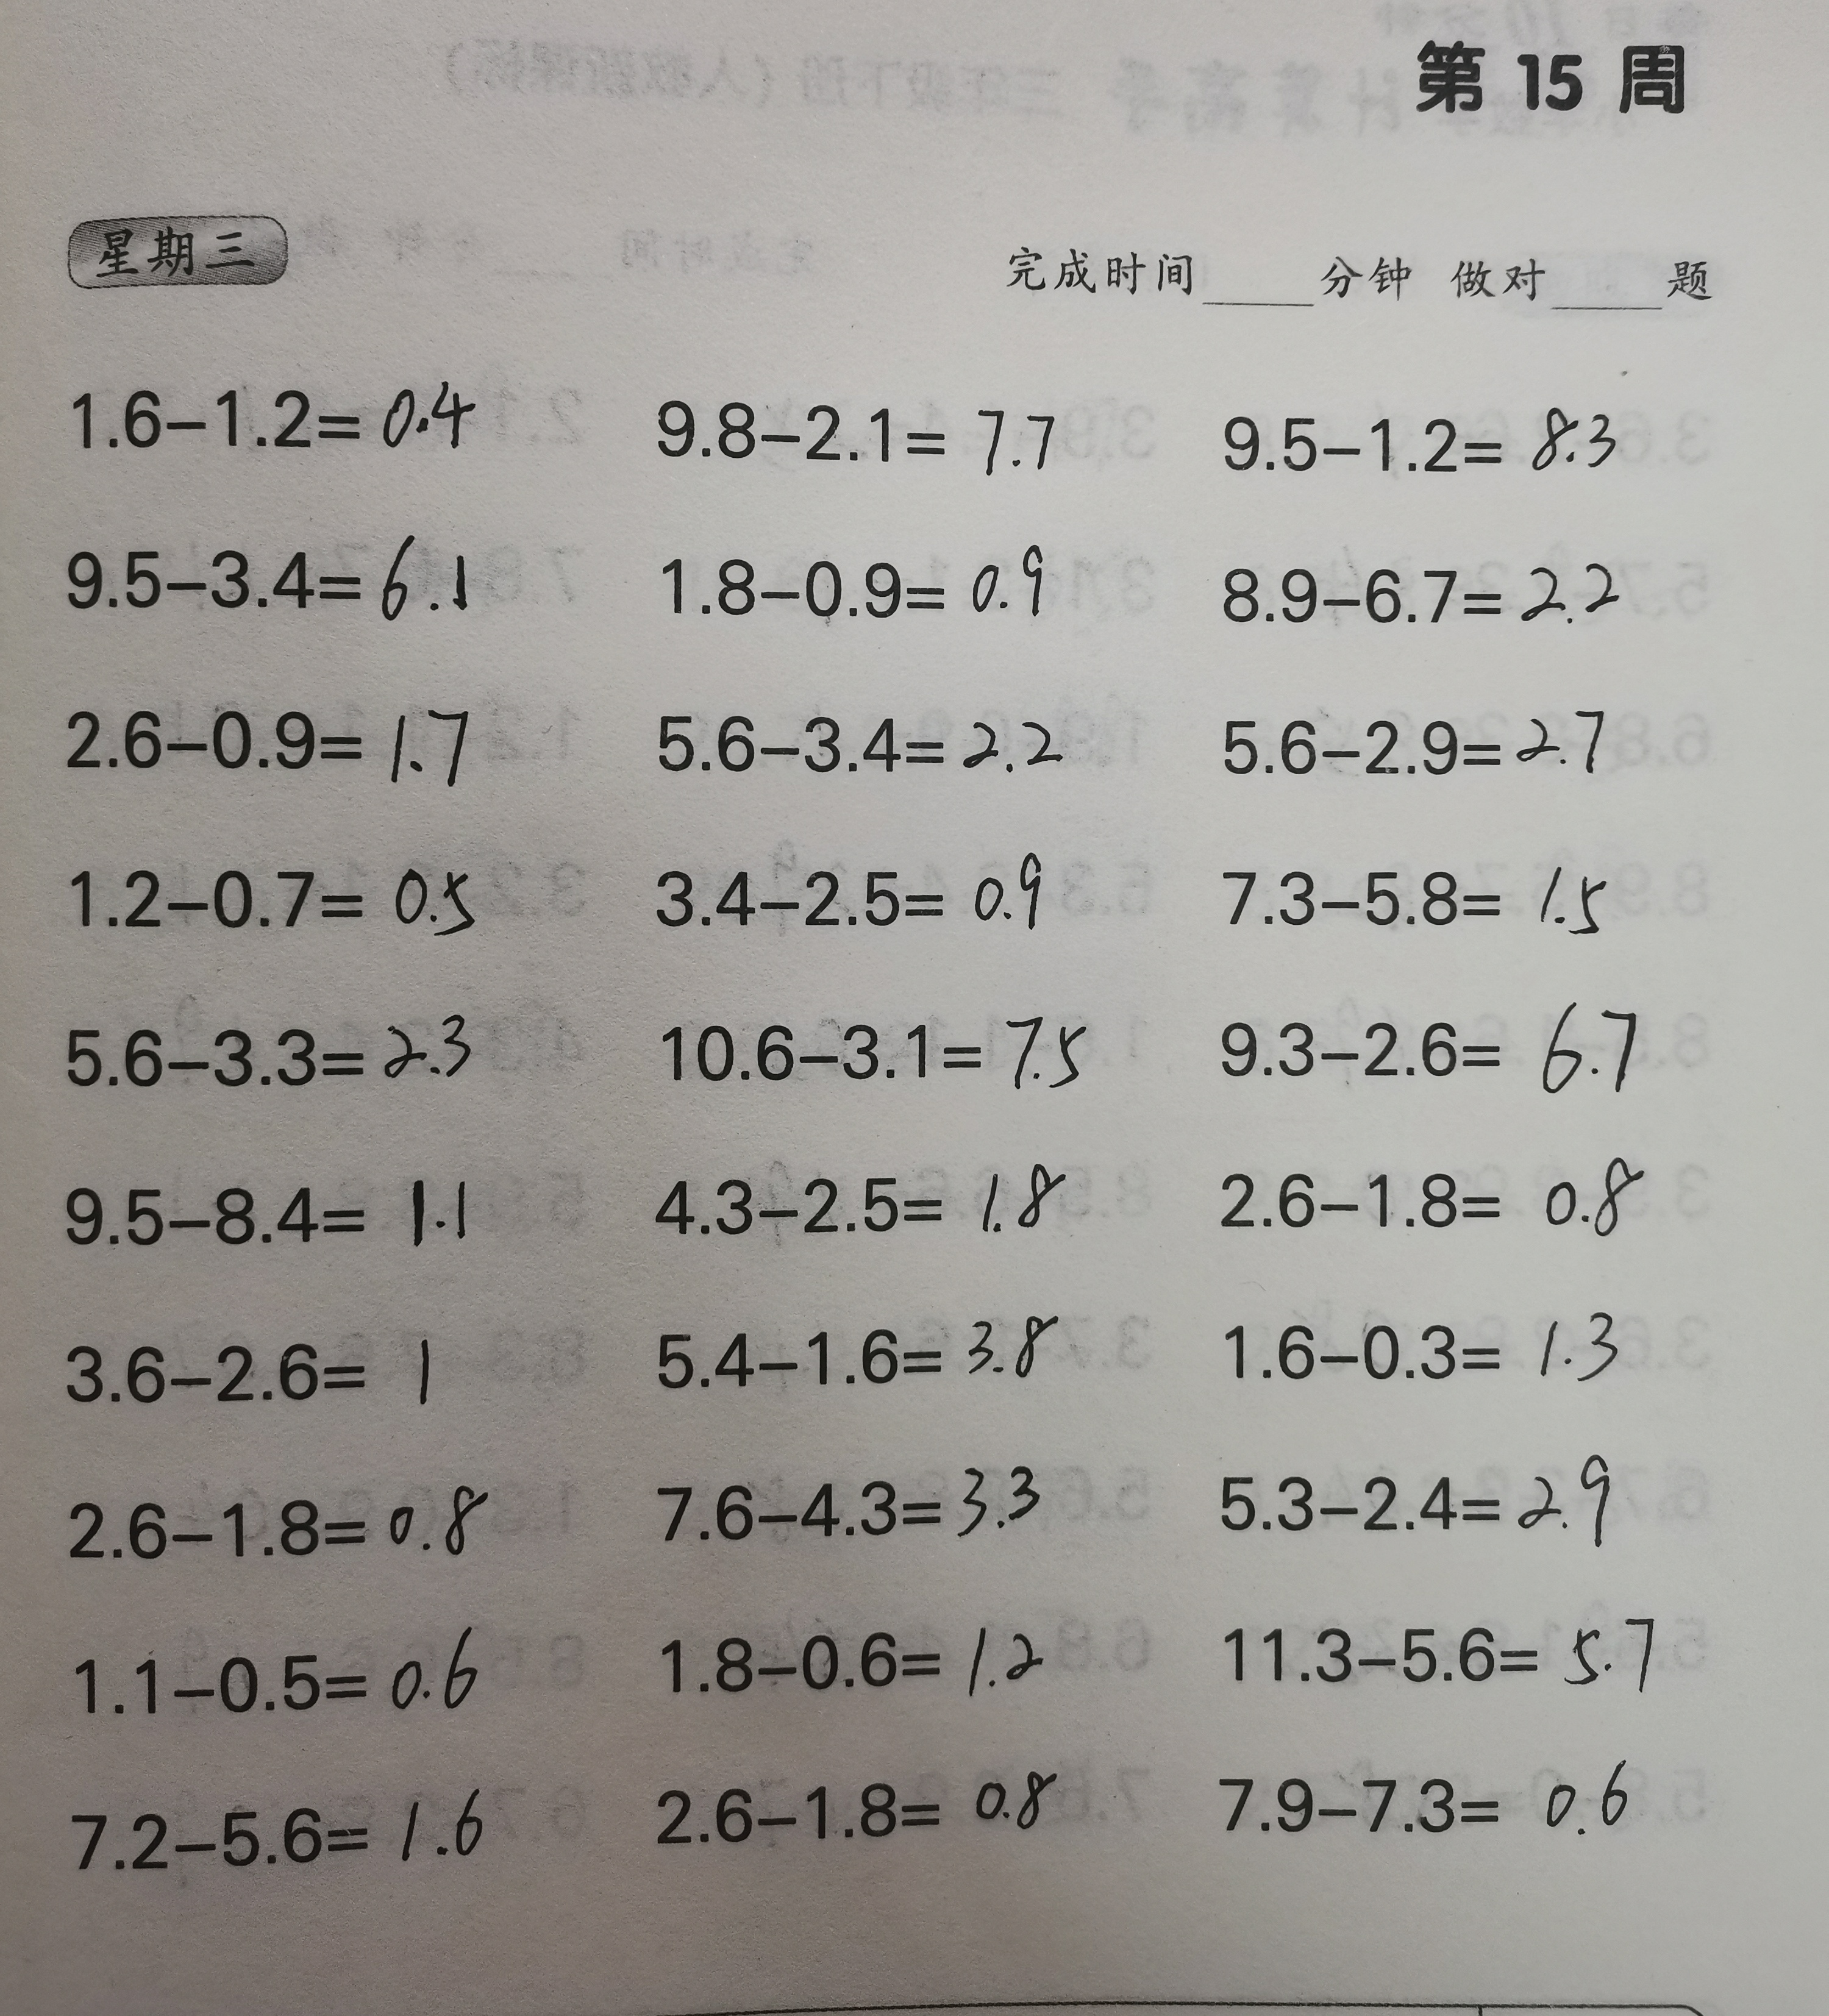equation: (1191, 1136, 1674, 1250), (634, 982, 1098, 1099), (63, 1617, 510, 1737), (634, 1749, 1086, 1863), (1205, 1596, 1674, 1705), (1196, 1735, 1653, 1846), (631, 1147, 1098, 1254), (53, 1159, 497, 1271), (51, 687, 488, 801), (1202, 997, 1669, 1101), (1198, 1436, 1636, 1547), (1207, 1292, 1655, 1400), (1205, 843, 1632, 955), (56, 1777, 495, 1886), (625, 1436, 1058, 1547), (645, 1596, 1077, 1707), (1205, 383, 1634, 493), (640, 523, 1072, 630), (641, 374, 1066, 483), (58, 353, 480, 462), (61, 1465, 497, 1570), (622, 1298, 1081, 1398), (51, 523, 494, 627), (44, 997, 501, 1098), (643, 838, 1061, 947), (51, 1315, 455, 1428), (648, 690, 1084, 792), (1195, 690, 1632, 790), (1202, 539, 1641, 637), (67, 850, 494, 943)
